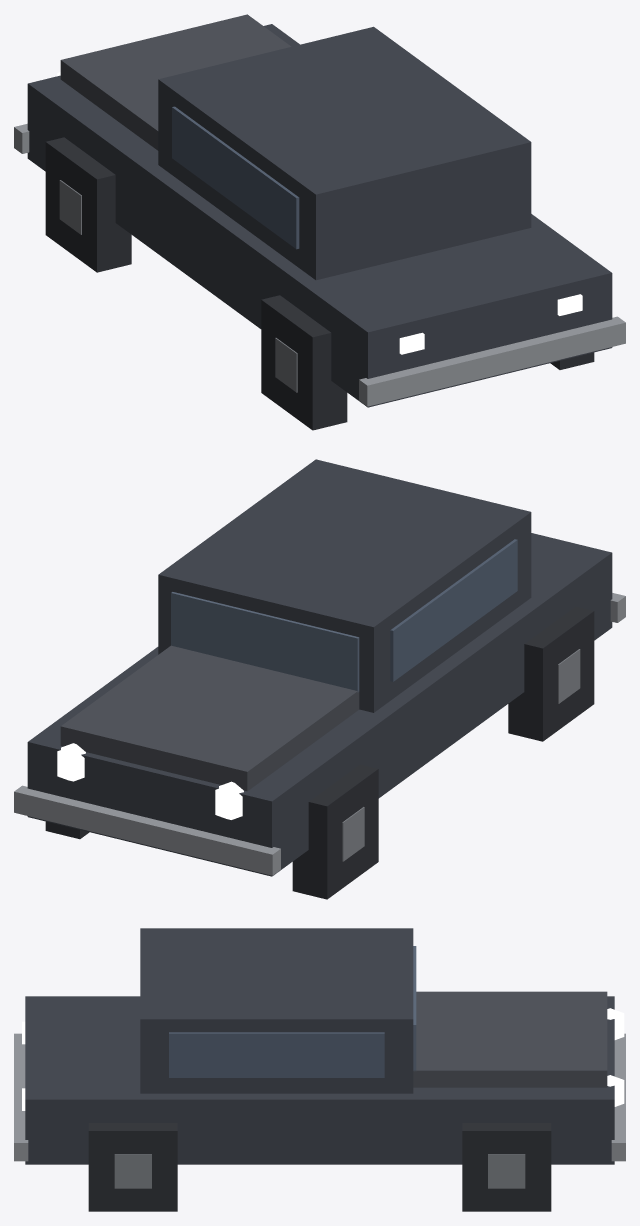
Rendered from coche.glb.
3 views of the same model, one above another, from view 1: azimuth 30°, elevation 25°; view 2: azimuth 150°, elevation 25°; view 3: azimuth 270°, elevation 25° (orthographic). The views are drawn at different scales.
Visible parts, largest first — view 1: Coche; view 2: Coche; view 3: Coche.
Part boxes in pixels (x1=…): Coche: x1=14, y1=14, x2=625, y2=430; Coche: x1=14, y1=459, x2=625, y2=899; Coche: x1=14, y1=928, x2=625, y2=1211.
Size of the model in its own units: 1.97 by 1.37 by 4.26.
